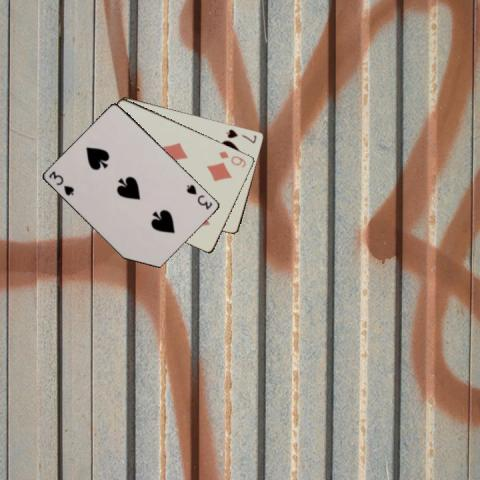3s: (183, 181, 214, 211), (46, 168, 76, 197)
6d: (216, 148, 248, 169)
7s: (223, 126, 258, 145)
